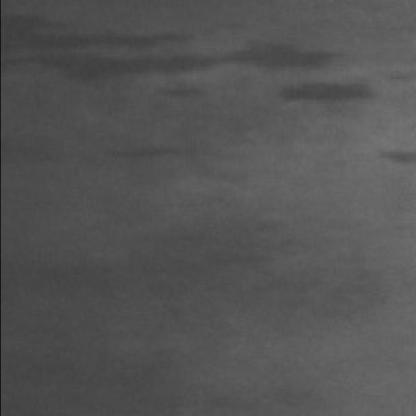inclusion: (0, 23, 345, 85), (264, 77, 387, 119), (106, 141, 181, 169)
